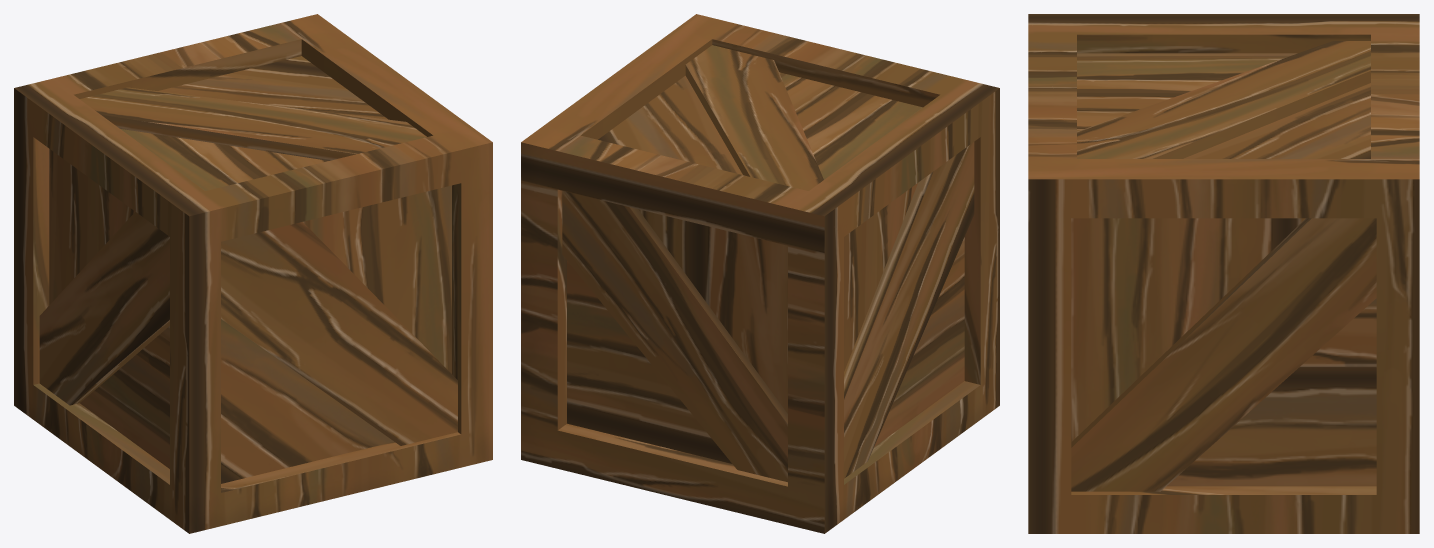
File: big box.obj
3 renders of one model, left to right at view 1: azimuth 30°, elevation 25°; view 2: azimuth 150°, elevation 25°; view 3: azimuth 270°, elevation 25°, orthographic. The views are drawn at different scales.
Visible parts, largest first — view 1: Cube.166; view 2: Cube.166; view 3: Cube.166.
Boxes of the visible parts, bbox=[...] form: Cube.166: bbox=[14, 14, 492, 533]; Cube.166: bbox=[521, 14, 999, 533]; Cube.166: bbox=[1028, 14, 1419, 533].
Size of the model in its own units: 3.02 by 3.02 by 3.02.
1 material, 1 textured.
